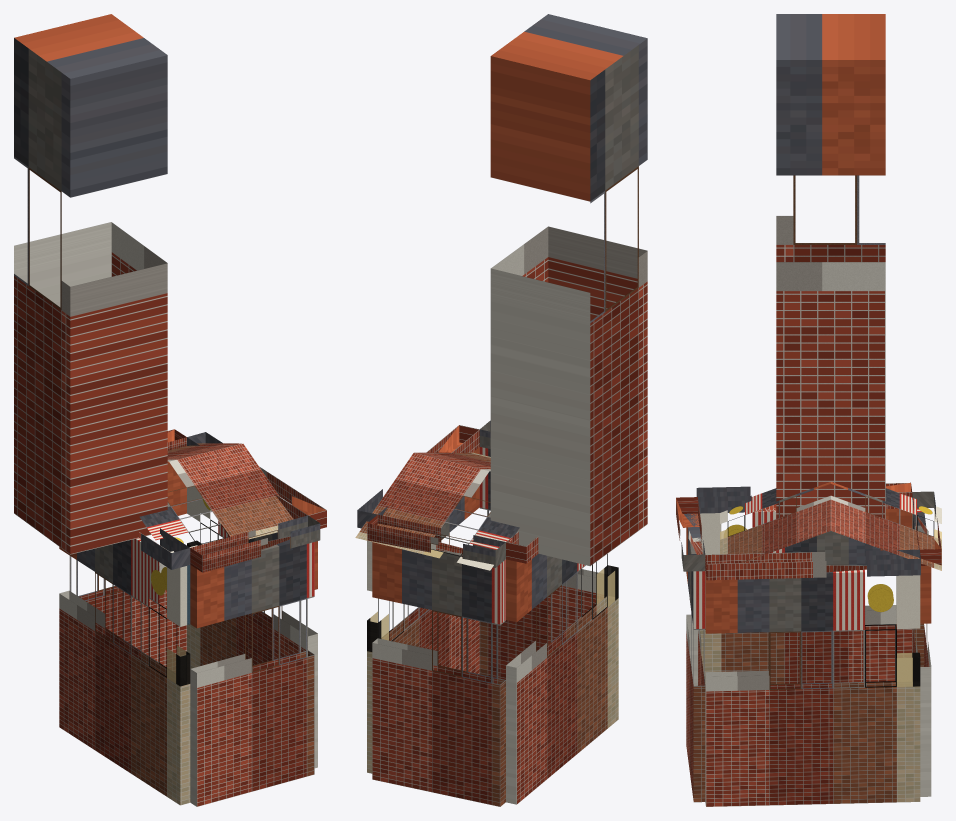
The picture shows the model from 3 angles, left to right: view 1: azimuth 30°, elevation 25°; view 2: azimuth 150°, elevation 25°; view 3: azimuth 270°, elevation 25°; orthographic projection. The views are drawn at different scales.
Parts seen in each view (by area): view 1: 1106973751__chimney_0_xb, 1106973751__wall_1_xb, 1106973751__wall_2_xb, 1106973751_roof_-1_xb, 1106973751__wall_0_xb, 1106973751__wall_3_xb, 1106973751__cornice_1, 1106973751__cornice_0, 1106973751__cornice_2, 1106973751__wall_2_xf, 1106973751_roof_1_xb; view 2: 1106973751__chimney_0_xb, 1106973751__wall_3_xb, 1106973751__wall_2_xb, 1106973751_roof_1_xb, 1106973751__wall_0_xb, 1106973751__wall_1_xb, 1106973751__cornice_3, 1106973751__cornice_0, 1106973751_roof_-1_xb, 1106973751__wall_2_xf, 1106973751__cornice_2, 1106973751__wall_0_xf; view 3: 1106973751__chimney_0_xb, 1106973751__wall_0_xb, 1106973751__wall_2_xb, 1106973751__cornice_0, 1106973751__wall_1_xb, 1106973751_roof_-1_xb, 1106973751_roof_1_xb, 1106973751__wall_3_xb, 1106973751__cornice_2, 1106973751__cornice_1, 1106973751__cornice_3, 1106973751__wall_0_xf.
Boxes of the visible parts, x1,y1,x2,y2 form: 1106973751__chimney_0_xb: (14,14,167,554); 1106973751__wall_1_xb: (190,539,314,806); 1106973751__wall_2_xb: (59,538,190,805); 1106973751_roof_-1_xb: (139,443,293,552); 1106973751__wall_0_xb: (187,486,317,768); 1106973751__wall_3_xb: (69,461,186,672); 1106973751__cornice_1: (190,515,320,572); 1106973751__cornice_0: (187,432,326,528); 1106973751__cornice_2: (139,528,190,569); 1106973751__wall_2_xf: (167,565,189,685); 1106973751_roof_1_xb: (167,443,241,461); 1106973751__chimney_0_xb: (490,14,647,566); 1106973751__wall_3_xb: (372,542,505,806); 1106973751__wall_2_xb: (506,553,618,804); 1106973751_roof_1_xb: (355,453,519,570); 1106973751__wall_0_xb: (367,447,479,773); 1106973751__wall_1_xb: (479,447,603,679); 1106973751__cornice_3: (367,514,505,567); 1106973751__cornice_0: (357,425,479,528); 1106973751_roof_-1_xb: (414,452,490,471); 1106973751__wall_2_xf: (596,566,617,605); 1106973751__cornice_2: (506,531,538,563); 1106973751__wall_0_xf: (367,612,388,651); 1106973751__chimney_0_xb: (776,14,885,518); 1106973751__wall_0_xb: (705,569,920,806); 1106973751__wall_2_xb: (700,508,912,683); 1106973751__cornice_0: (705,549,920,580); 1106973751__wall_1_xb: (686,513,705,802); 1106973751_roof_-1_xb: (720,482,830,562); 1106973751_roof_1_xb: (831,482,941,570); 1106973751__wall_3_xb: (912,508,931,796); 1106973751__cornice_2: (696,482,912,513); 1106973751__cornice_1: (676,497,705,571); 1106973751__cornice_3: (912,491,941,565); 1106973751__wall_0_xf: (897,653,919,686).
Bounding box in the file's own units: 0.3397 × 1.05 × 0.3652.
1 material, 1 textured.
